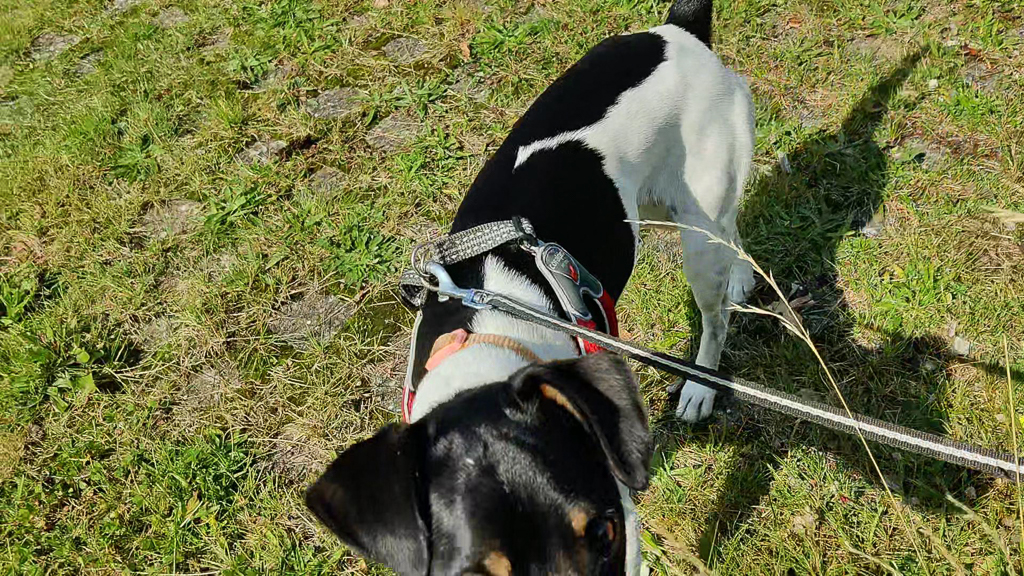Dog: (293, 0, 761, 576)
